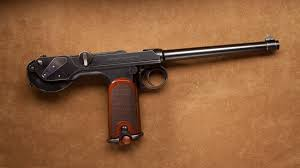knife: (26, 41, 278, 146)
